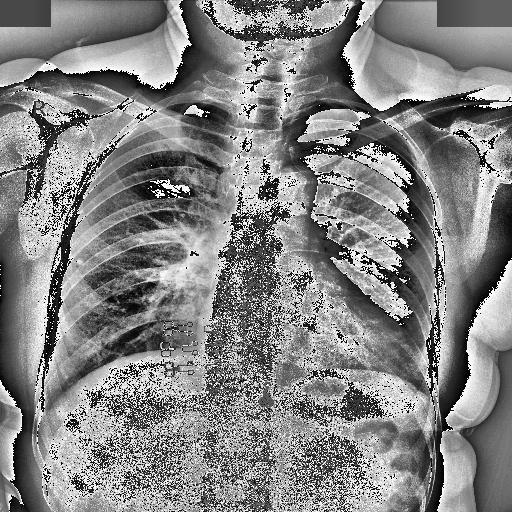0- Aortic enlargement: (280, 164, 317, 202)
3- Cardiomegaly: (196, 292, 420, 385), (195, 312, 409, 376)
8- Nodule-Mass: (74, 258, 84, 266), (74, 258, 84, 264)
9- Other lesion: (195, 308, 403, 374)
